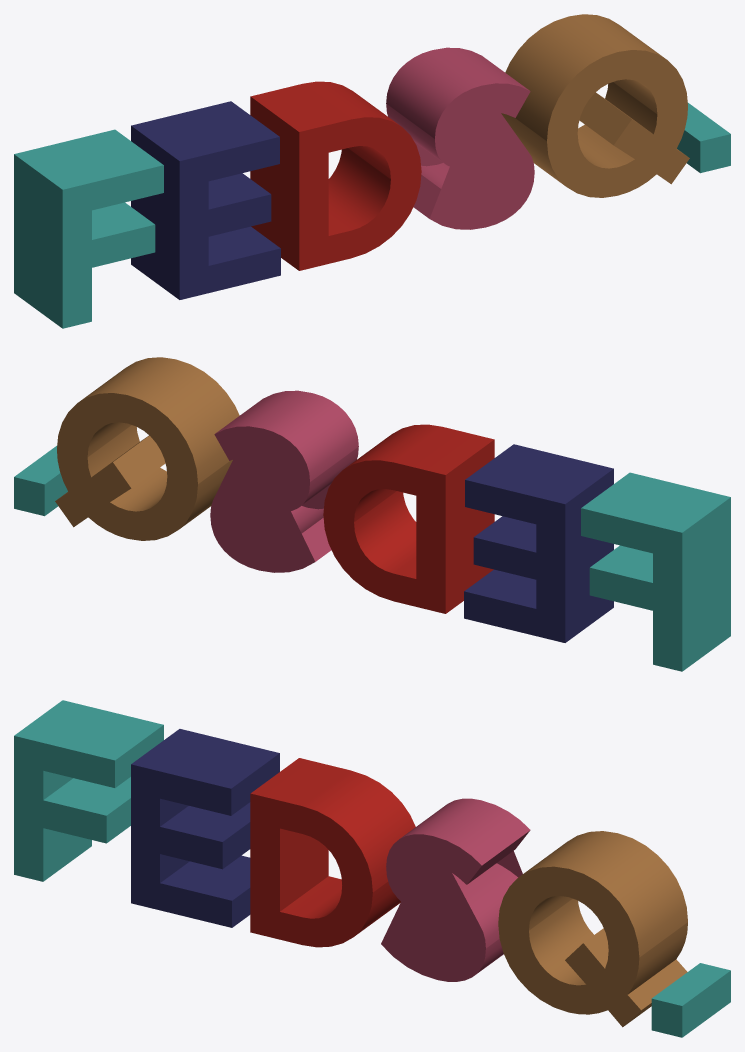
Rendered from fedsq_sculpture.fbx.
The picture shows the model from 3 angles, top to bottom: view 1: azimuth 30°, elevation 25°; view 2: azimuth 150°, elevation 25°; view 3: azimuth 330°, elevation 25°; orthographic projection.
Parts seen in each view (by area): view 1: FEDSQ_Sculpture; view 2: FEDSQ_Sculpture; view 3: FEDSQ_Sculpture.
Boxes of the visible parts, x1,y1,x2,y2 form: FEDSQ_Sculpture: (14, 14, 730, 328); FEDSQ_Sculpture: (14, 357, 730, 671); FEDSQ_Sculpture: (14, 700, 730, 1037).
Bounding box in the file's own units: 792 × 165 × 100.
